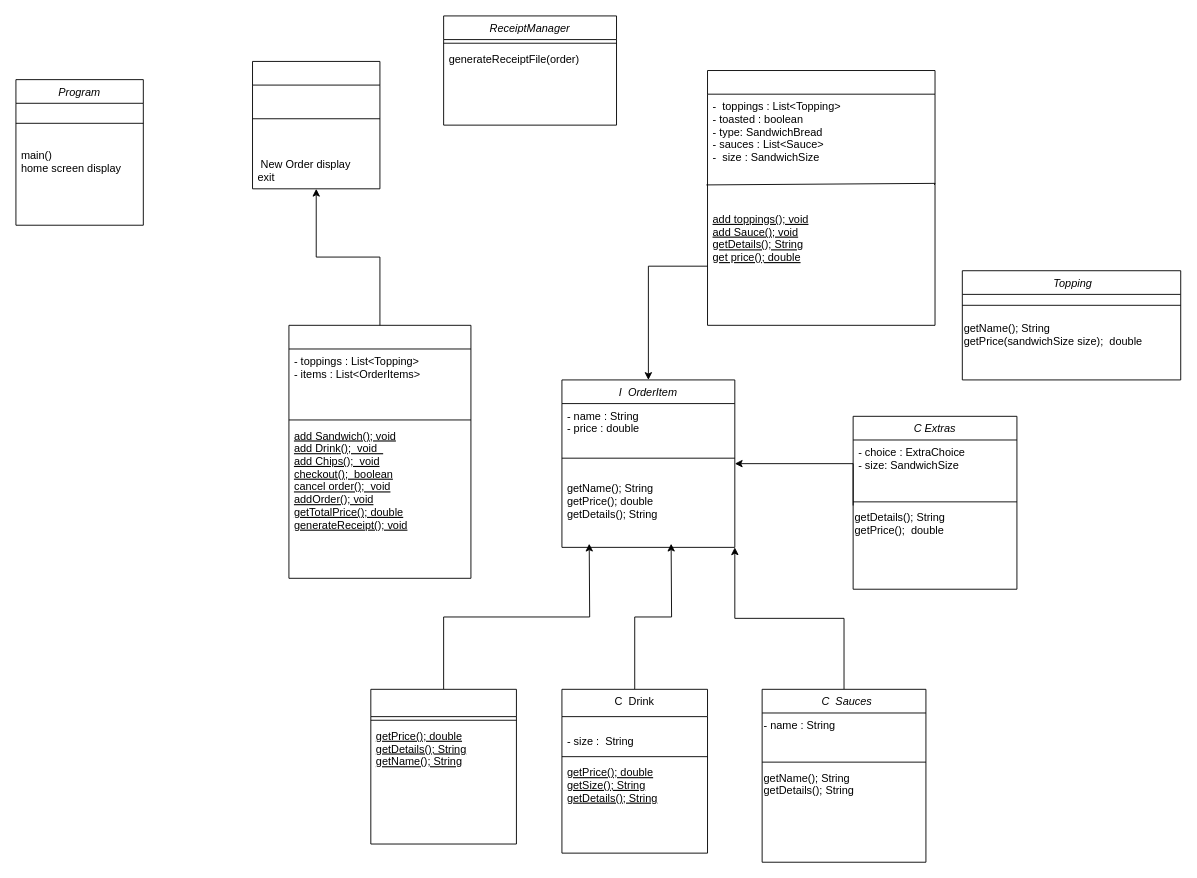
This 1197x878 diagram has some shape labels left out. The shapes that lost their labels are listed below. From the top down, each one's box as (x1, y1, x2, y2) in pixels, then its label:
(252, 61, 380, 189): Homescreen
(707, 70, 935, 325): C Sandwich
(288, 324, 471, 578): OrderScreen
(370, 688, 516, 844): C Chips
